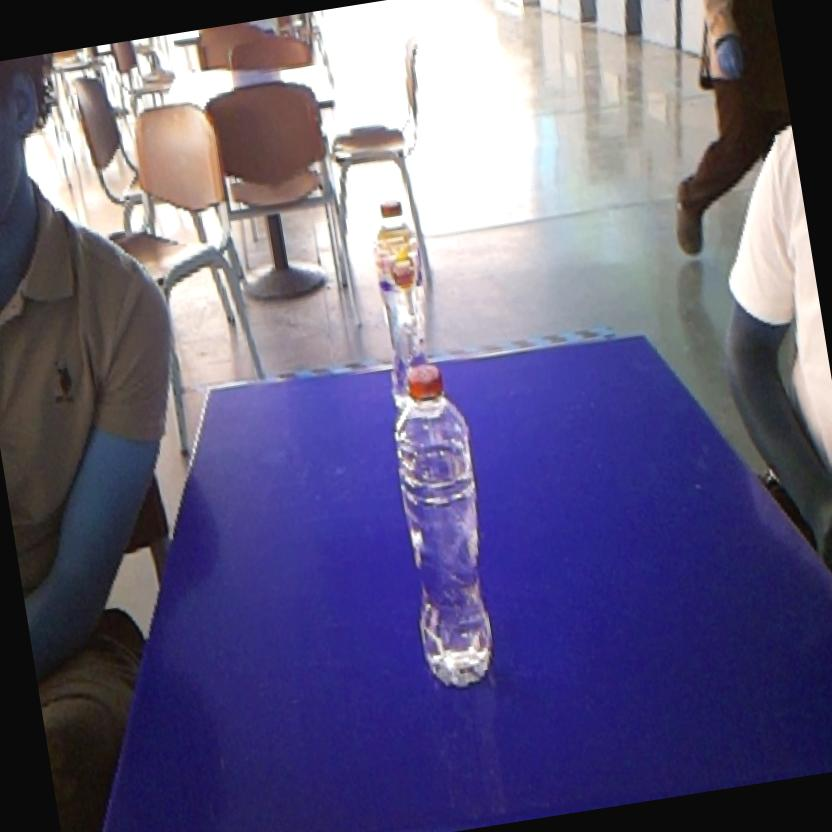good: (352, 180, 446, 371)
no_label: (368, 350, 516, 700)
